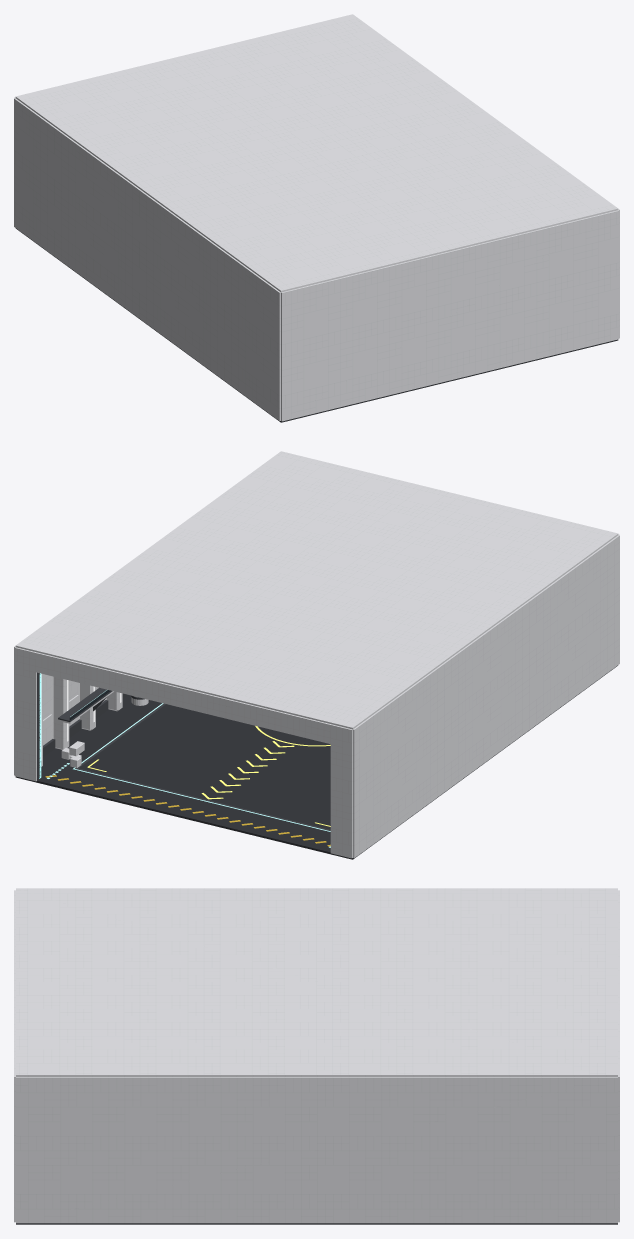
The model's file is Hangar.glb.
The picture shows the model from 3 angles, top to bottom: view 1: azimuth 30°, elevation 25°; view 2: azimuth 150°, elevation 25°; view 3: azimuth 270°, elevation 25°; orthographic projection. The views are drawn at different scales.
Parts seen in each view (by area): view 1: Hangar interieur - Coque, Hangar interieur - Sol; view 2: Hangar interieur - Coque, Hangar interieur - Sol, Hangar interieur - Sombre, Hangar interieur - Feux bleus, Hangar interieur - Marquage, Hangar interieur - Jaune; view 3: Hangar interieur - Coque, Hangar interieur - Sol.
Part boxes in pixels (x1,y1,x2,y2): Hangar interieur - Coque: (14, 14, 619, 421); Hangar interieur - Sol: (16, 228, 618, 422); Hangar interieur - Coque: (14, 451, 619, 858); Hangar interieur - Sol: (15, 665, 617, 859); Hangar interieur - Sombre: (37, 672, 330, 830); Hangar interieur - Feux bleus: (39, 673, 330, 847); Hangar interieur - Marquage: (87, 726, 330, 826); Hangar interieur - Jaune: (45, 775, 330, 846); Hangar interieur - Coque: (14, 888, 619, 1223); Hangar interieur - Sol: (16, 1223, 617, 1224).
Size of the model in its own units: 111 by 41.1 by 151.
Materials: 10 (1 with a texture image).
